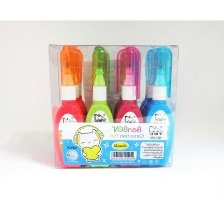correction_fluid: (109, 44, 148, 169), (81, 44, 117, 169), (141, 45, 177, 168), (52, 43, 86, 169)
plastic_box: (44, 40, 182, 173)
